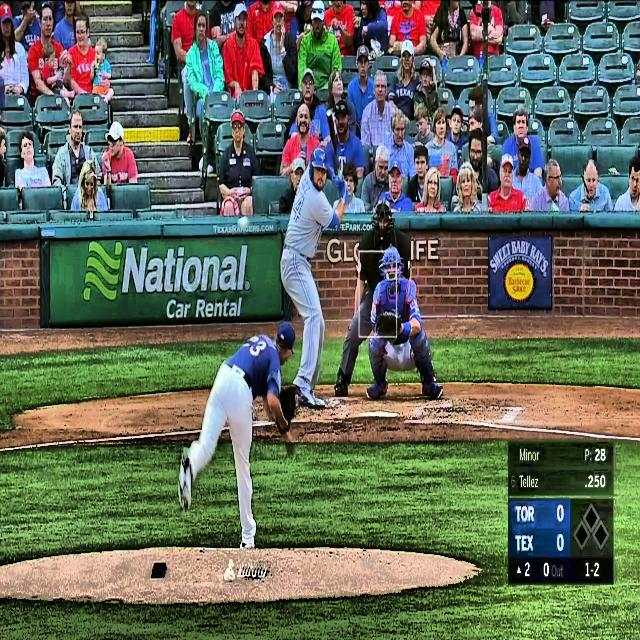baseball: (238, 216, 250, 230)
